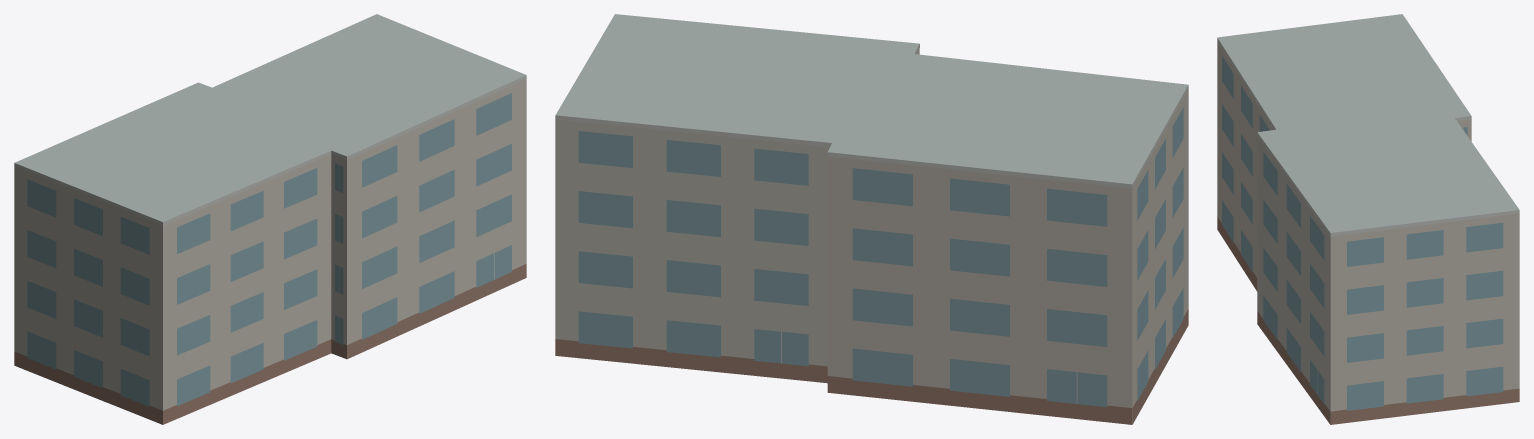
File: survey-upis-32709125.glb
3 views of the same model, side by side, from view 1: azimuth 30°, elevation 25°; view 2: azimuth 150°, elevation 25°; view 3: azimuth 270°, elevation 25° (orthographic). The views are drawn at different scales.
Visible parts, largest first — view 1: survey-upis-32709125.tmp; view 2: survey-upis-32709125.tmp; view 3: survey-upis-32709125.tmp.
Part boxes in pixels (bbox=[...]): survey-upis-32709125.tmp: bbox=[14, 14, 526, 424]; survey-upis-32709125.tmp: bbox=[555, 14, 1188, 424]; survey-upis-32709125.tmp: bbox=[1217, 14, 1519, 424].
Size of the model in its own units: 33.79 by 13.8 by 19.73.
